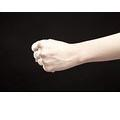gu-: (30, 39, 73, 73)
